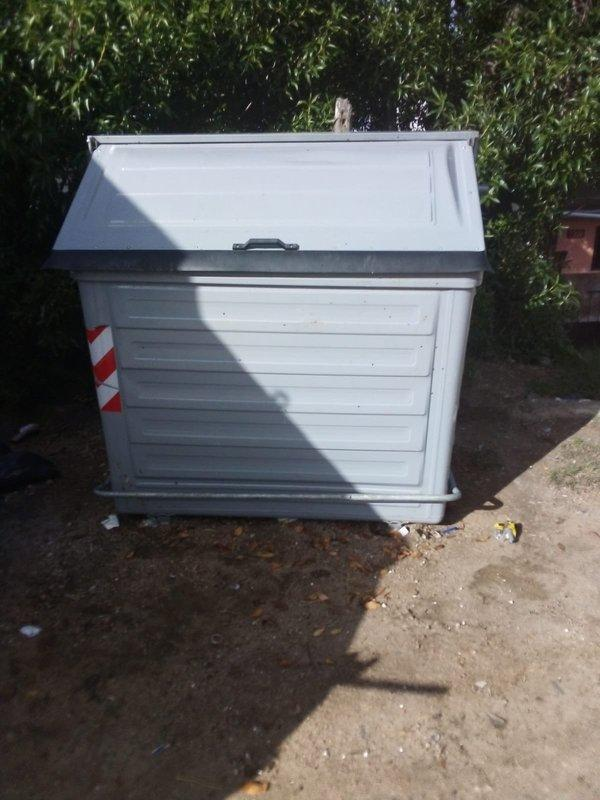Trash: (53, 133, 493, 543)
